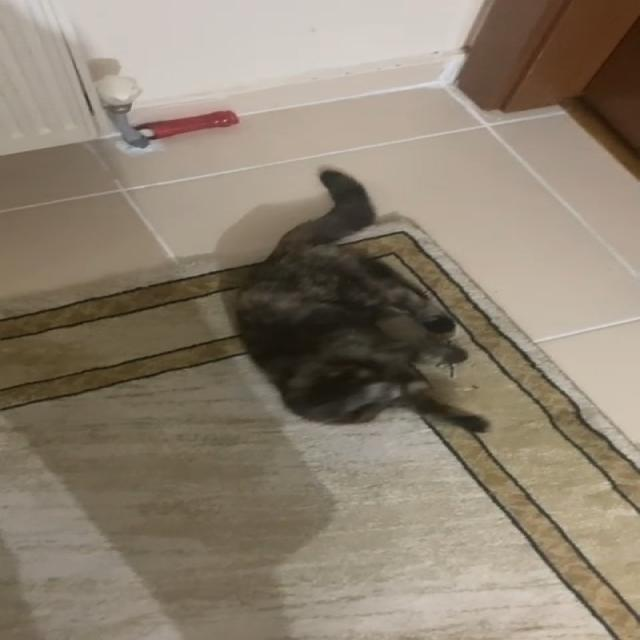authorized: (230, 166, 490, 433)
